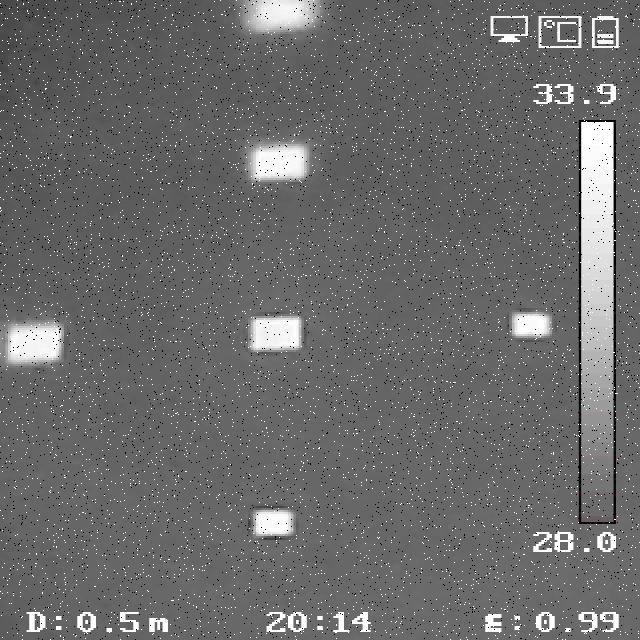Indistinguishable 4-bar target: (249, 140, 307, 182), (8, 325, 61, 365), (254, 320, 302, 351), (252, 4, 308, 28), (256, 513, 291, 537), (520, 315, 549, 332)
